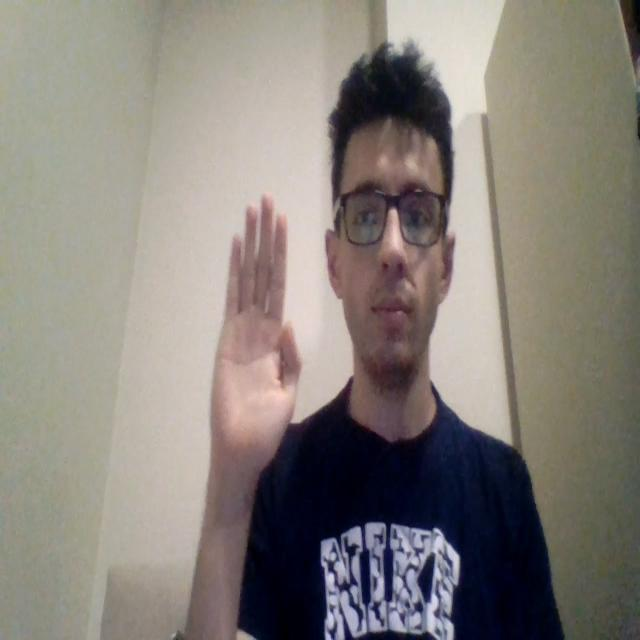hello: (208, 192, 303, 488)
